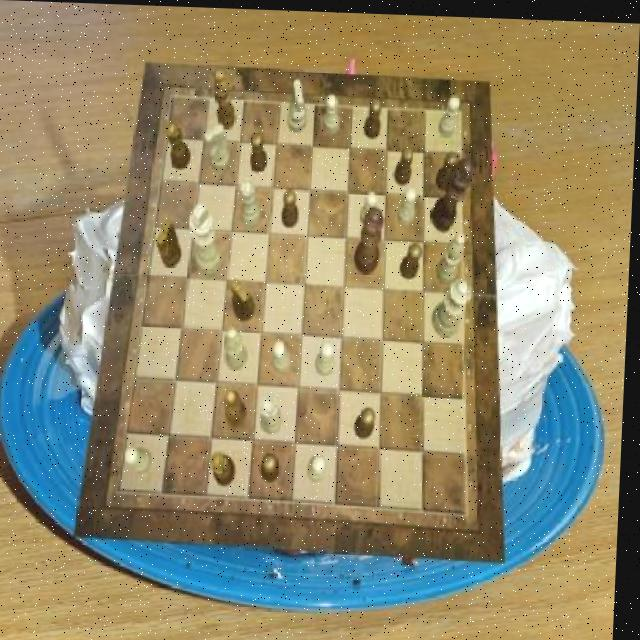bishop: (213, 70, 238, 129), (225, 387, 250, 428)
black-bishop: (431, 155, 474, 230)
black-king: (157, 217, 185, 267), (232, 276, 258, 320)
black-knight: (437, 147, 460, 188), (402, 240, 425, 277), (363, 95, 382, 137), (395, 142, 415, 181), (250, 130, 268, 171), (357, 405, 379, 438), (281, 187, 300, 225), (264, 453, 284, 481)
black-pawn: (354, 204, 385, 273)
black-queen: (165, 119, 193, 167), (214, 448, 240, 484)
black-rook: (437, 230, 466, 283), (226, 325, 250, 368)
white-bishop: (190, 203, 226, 276)
white-king: (203, 121, 231, 170), (287, 78, 308, 131)
white-knight: (439, 93, 460, 135), (398, 184, 418, 223), (127, 446, 155, 472), (324, 93, 342, 133), (319, 339, 339, 374), (361, 189, 380, 224), (276, 339, 295, 372), (311, 453, 331, 479)
white-pawn: (434, 274, 475, 336)
white-queen: (241, 176, 265, 225), (262, 394, 287, 432)
